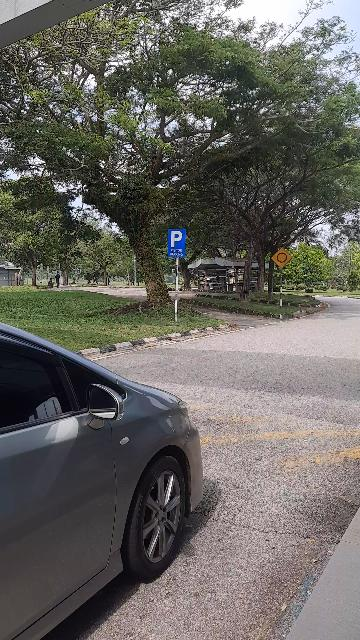car: (1, 318, 219, 640)
